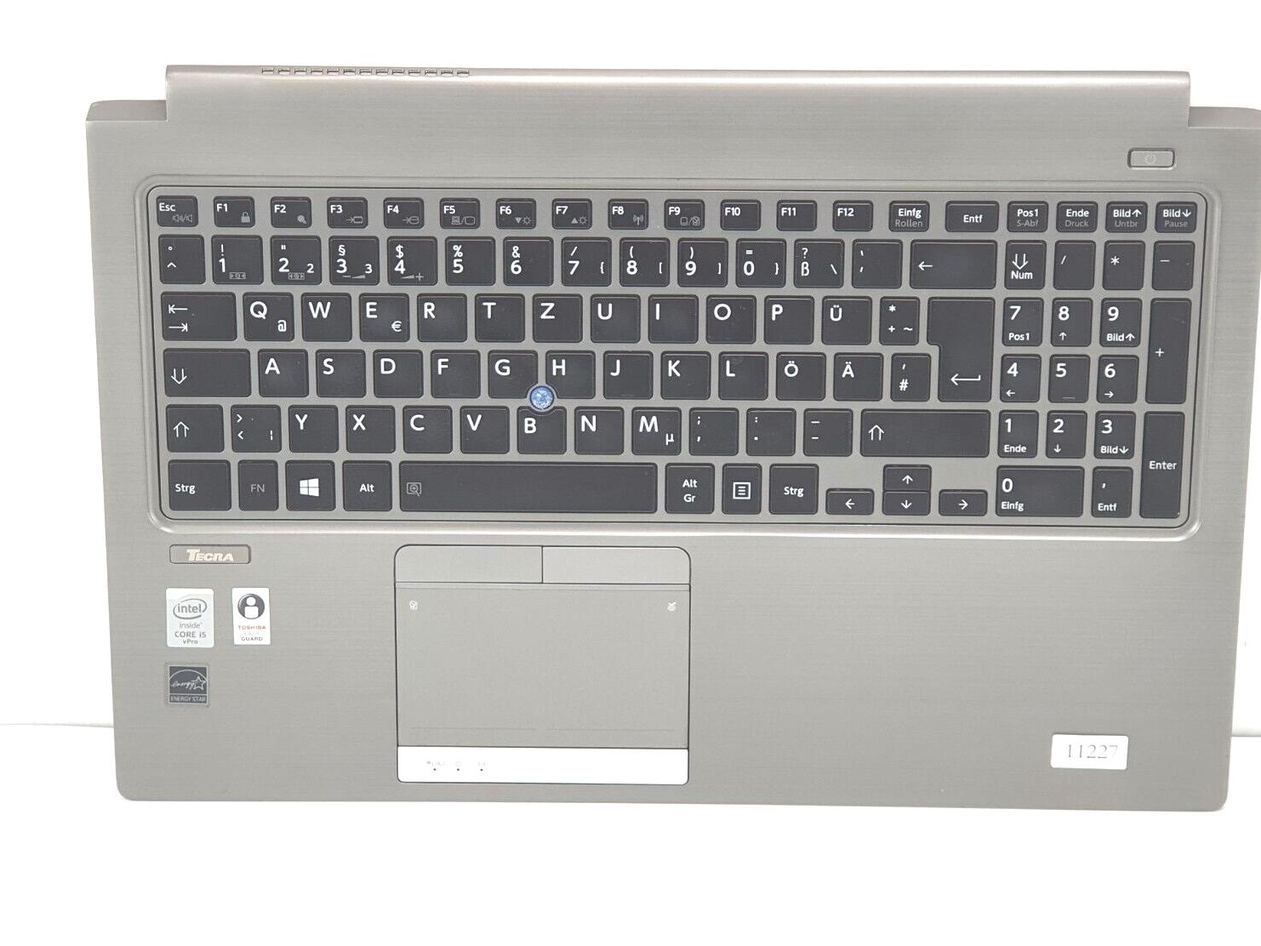0: (731, 235, 785, 285)
1: (208, 231, 261, 282)
2: (266, 231, 320, 282)
3: (324, 232, 377, 282)
4: (384, 232, 434, 282)
5: (441, 234, 493, 282)
6: (499, 233, 551, 282)
7: (558, 234, 609, 283)
8: (615, 235, 667, 285)
9: (674, 235, 726, 285)
a: (254, 345, 305, 395)
accent: (848, 236, 899, 286)
ae: (829, 349, 882, 399)
alt-left: (339, 458, 390, 510)
altgr-right: (662, 459, 713, 512)
b: (513, 402, 563, 452)
c: (399, 401, 449, 451)
caret: (154, 231, 202, 281)
comma: (687, 405, 737, 453)
d: (368, 345, 419, 396)
del: (906, 236, 993, 285)
e: (355, 288, 407, 339)
enter: (923, 291, 990, 401)
f: (427, 345, 476, 396)
g: (484, 345, 533, 396)
h: (541, 346, 592, 396)
hash: (887, 349, 927, 399)
i: (645, 291, 695, 341)
j: (600, 347, 649, 397)
k: (657, 347, 708, 397)
keyboard: (134, 172, 1219, 550)
l: (715, 348, 766, 398)
less: (227, 401, 280, 450)
m: (626, 402, 680, 453)
minus: (799, 405, 850, 454)
n: (570, 402, 621, 452)
o: (701, 291, 753, 341)
oe: (772, 349, 823, 399)
p: (759, 292, 811, 343)
plus: (876, 292, 916, 342)
point: (743, 404, 794, 453)
q: (238, 288, 292, 339)
r: (413, 289, 465, 340)
s: (311, 345, 362, 396)
shift-left: (160, 400, 220, 451)
shift-lock: (159, 344, 248, 395)
shift-right: (857, 405, 987, 454)
space: (396, 457, 655, 510)
ss: (790, 236, 842, 285)
strg-left: (160, 455, 228, 510)
strg-right: (765, 460, 817, 512)
t: (471, 289, 522, 339)
tab: (157, 287, 231, 337)
u: (585, 290, 637, 341)
ue: (817, 292, 869, 343)
v: (456, 402, 507, 452)
w: (297, 288, 350, 339)
x: (342, 402, 393, 451)
y: (285, 402, 337, 451)
z: (529, 289, 579, 340)
